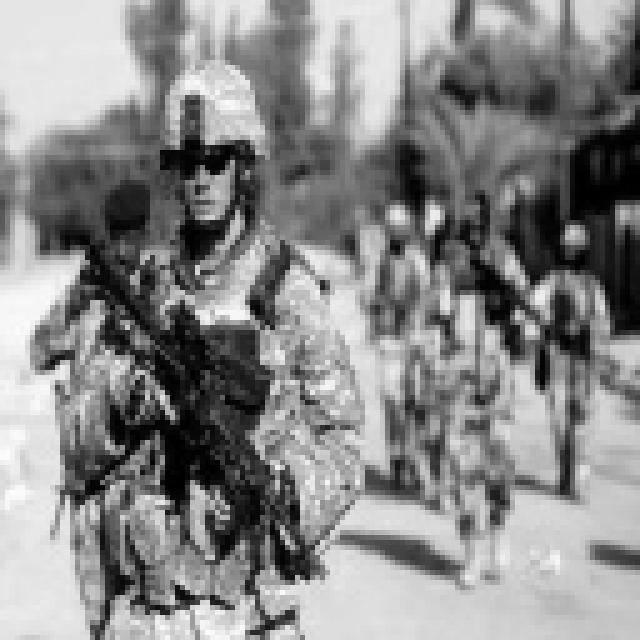Rifle: (67, 223, 325, 556), (446, 226, 556, 360)
